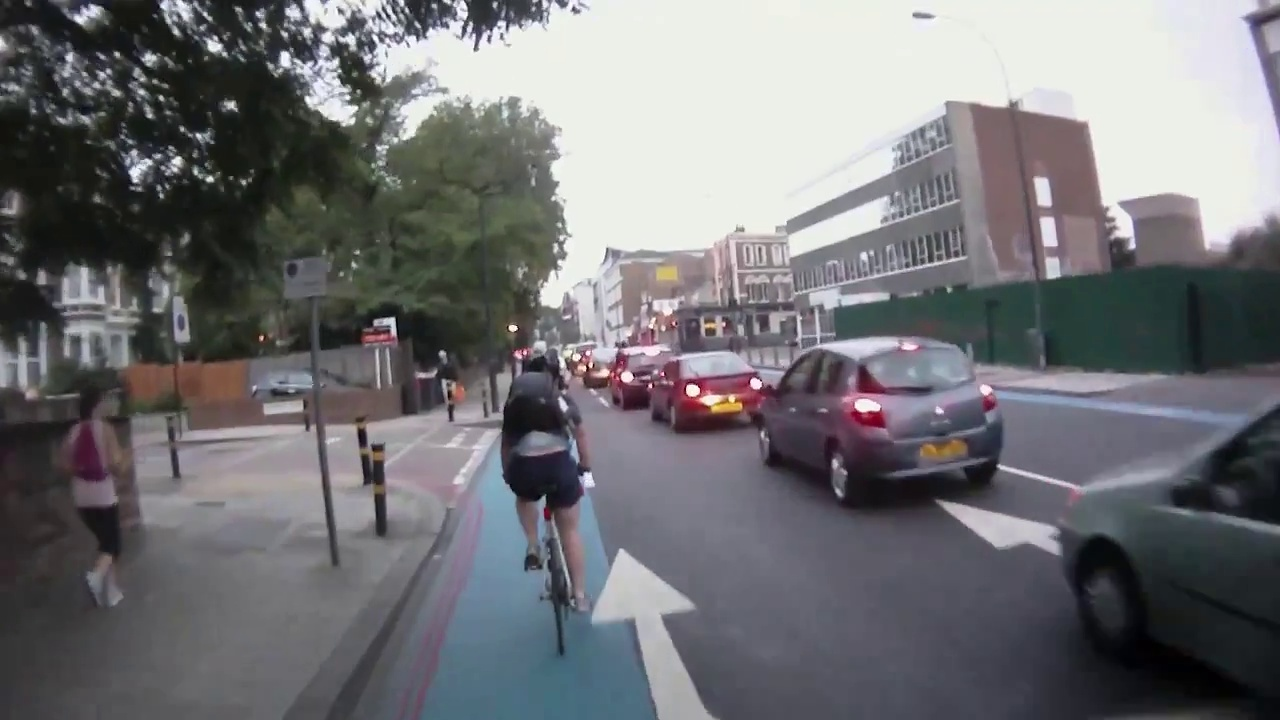cyclist_back: (493, 342, 600, 661)
